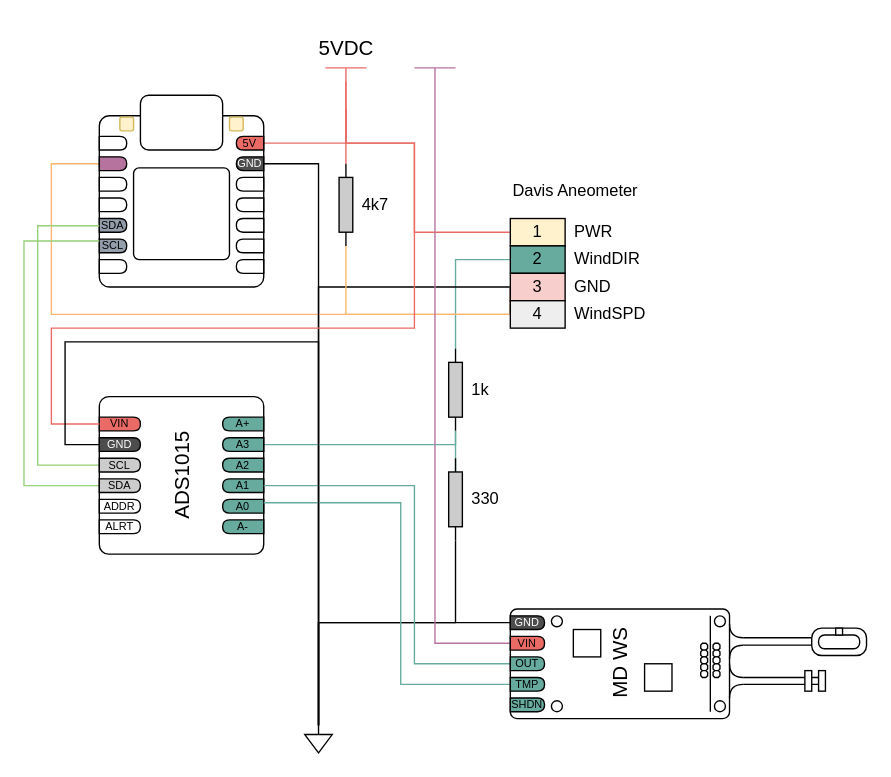
The diagram is 891 pixels wide and 777 high, and some of its shapes have lost their labels. Each missing label, with the centre of its shape:
12VDC: pixel 434 87
XIAO ESP32 S3: pixel 180 213
